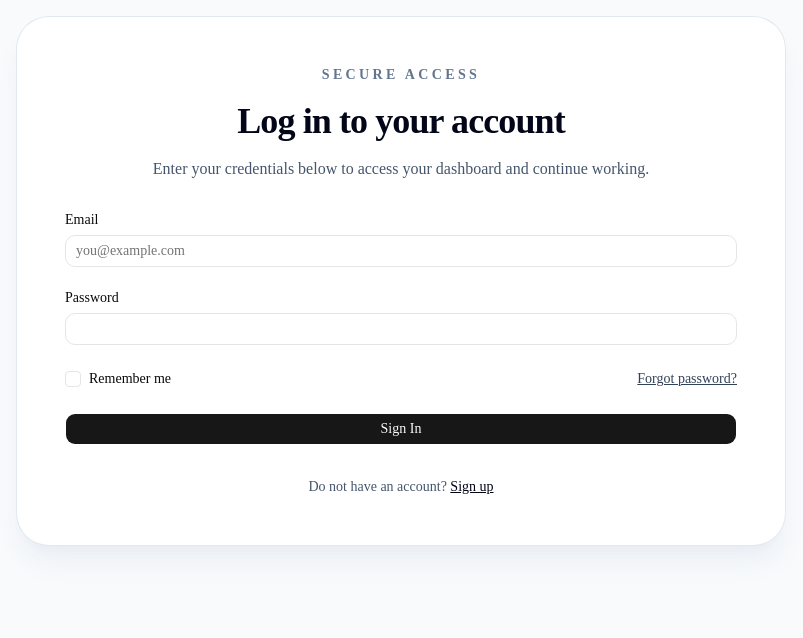
it: LoginPage › submits the login form and stores the token
This screenshot has width=803, height=638.
Type "user@example.com" into the field with id "email" at (401, 251), box [65, 235, 737, 267]
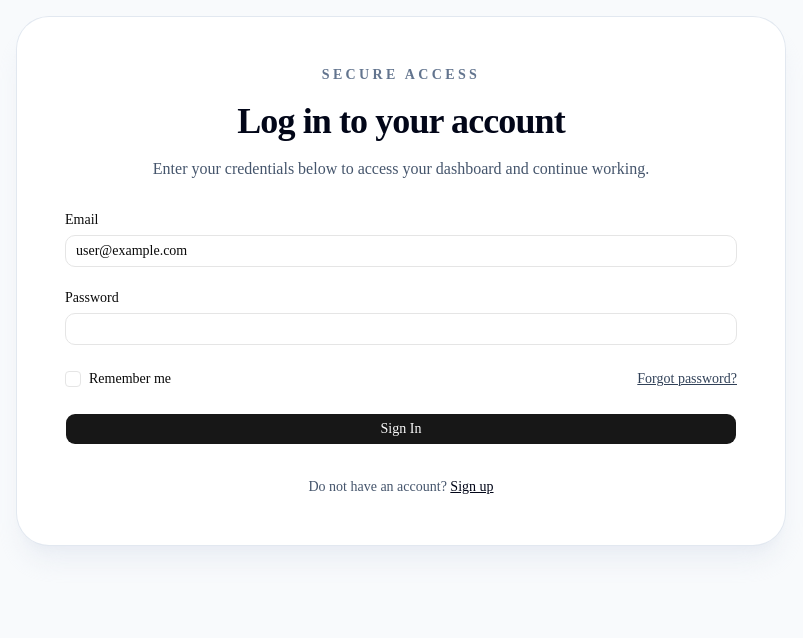
Type "secret" into the password field labelled "Password" at (401, 329), box [65, 313, 737, 345]
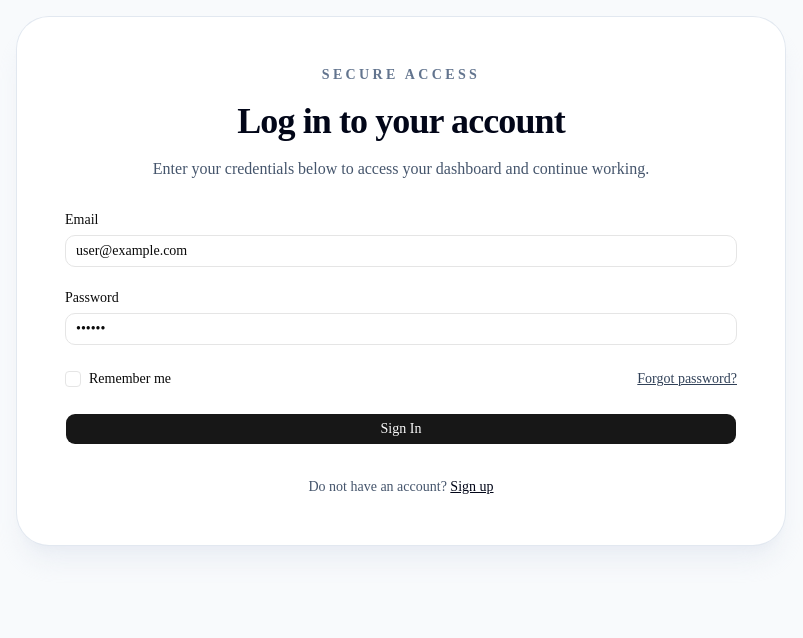
Submit the form, box [65, 213, 737, 445]
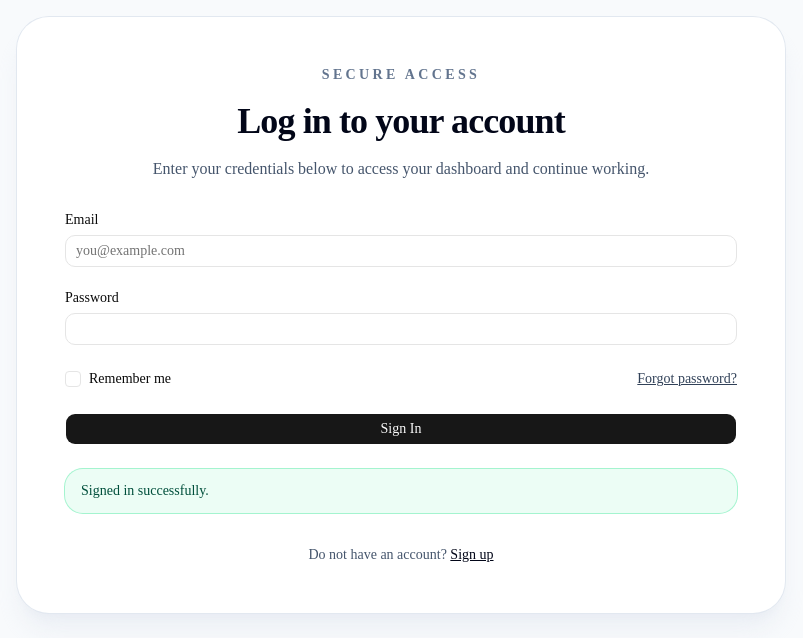
Expected: the text "Signed in successfully." is shown, [65, 469, 737, 513]
